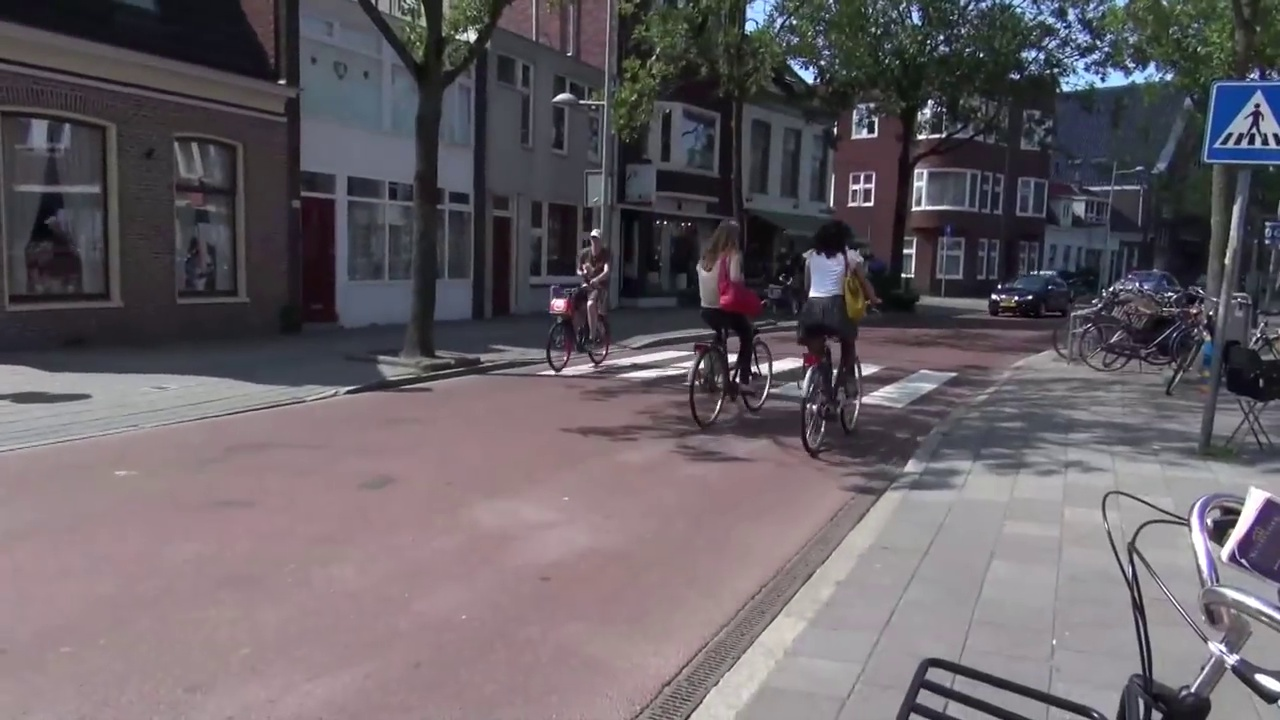cyclist_back: (793, 218, 886, 462), (682, 207, 782, 430)
cyclist_front: (541, 220, 615, 380)
